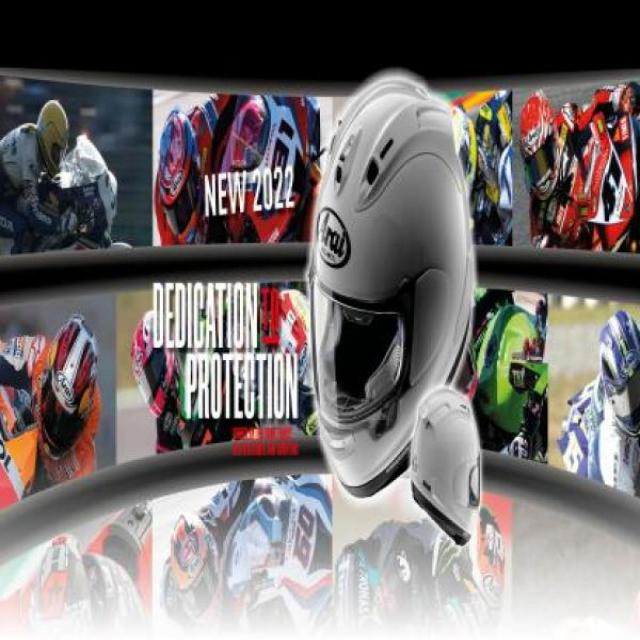Helmet: (293, 68, 464, 427), (406, 381, 484, 571), (33, 310, 117, 444), (506, 91, 568, 221), (590, 304, 640, 449), (156, 119, 212, 198), (22, 95, 84, 166)
